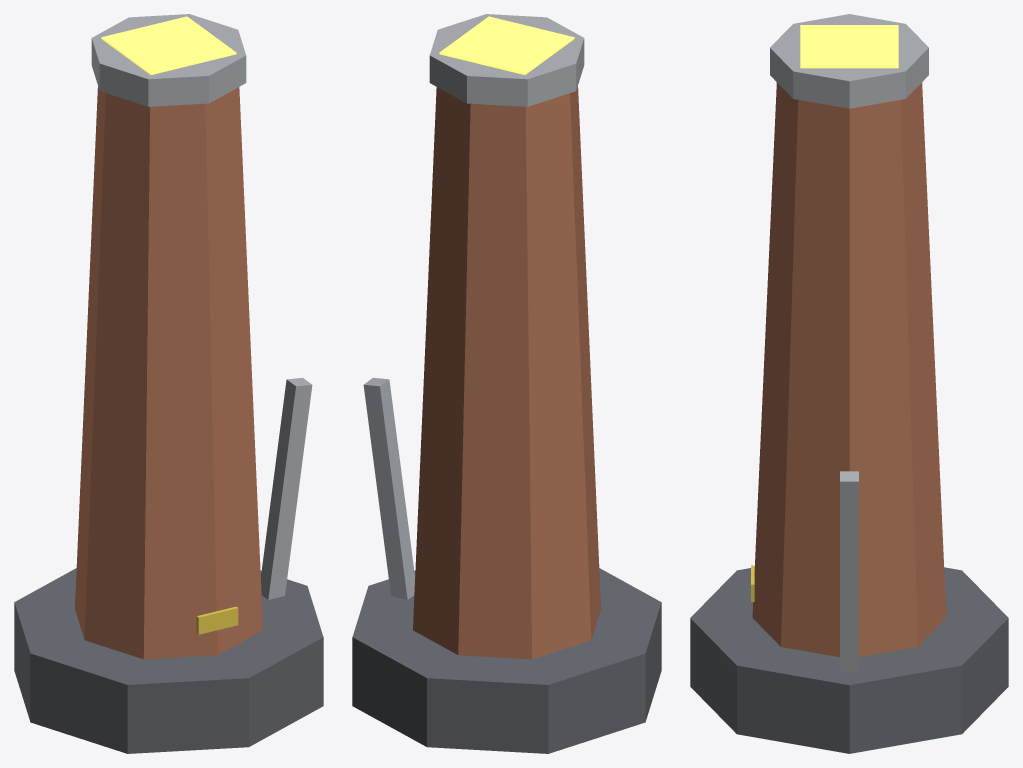
File: SmelterStack.glb
3 views of the same model, side by side, from view 1: azimuth 30°, elevation 25°; view 2: azimuth 150°, elevation 25°; view 3: azimuth 270°, elevation 25° (orthographic).
Visible parts, largest first — view 1: SmelterStack; view 2: SmelterStack; view 3: SmelterStack.
Boxes of the visible parts, x1,y1,x2,y2 form: SmelterStack: [14, 14, 323, 753]; SmelterStack: [352, 14, 661, 753]; SmelterStack: [690, 14, 1008, 753].
Size of the model in its own units: 8.4 by 18.65 by 8.4.
